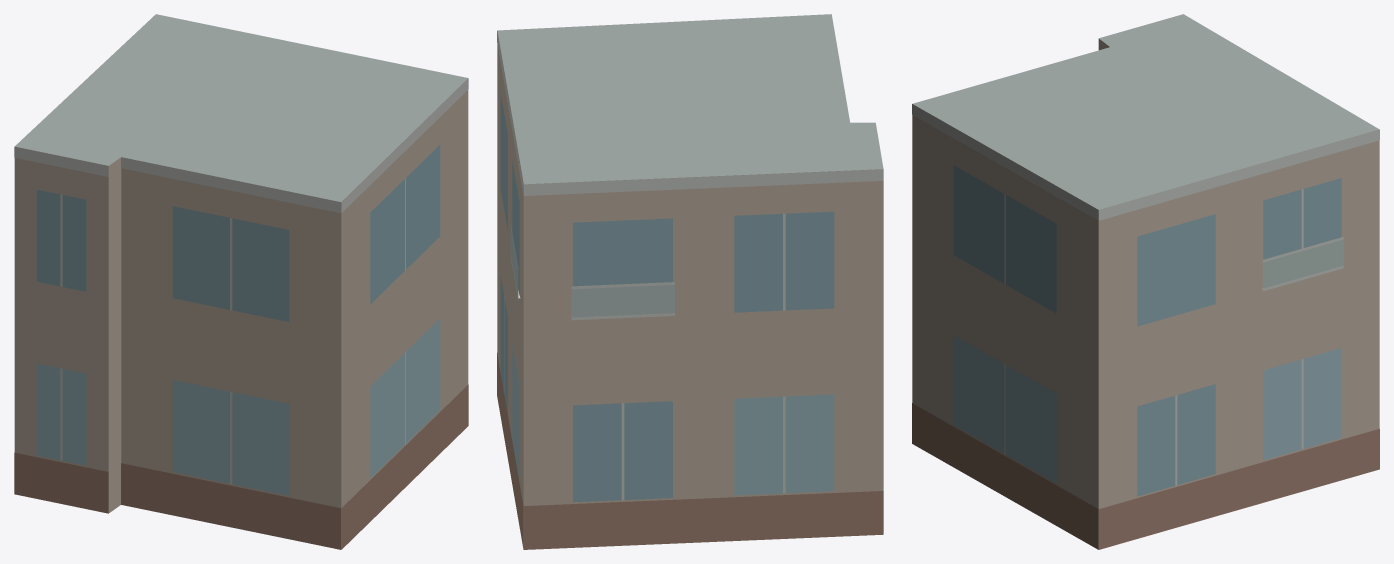
The model's file is survey-upis-32559815.glb.
The picture shows the model from 3 angles, left to right: view 1: azimuth 30°, elevation 25°; view 2: azimuth 150°, elevation 25°; view 3: azimuth 270°, elevation 25°; orthographic projection. The views are drawn at different scales.
Visible parts, largest first — view 1: survey-upis-32559815.tmp; view 2: survey-upis-32559815.tmp; view 3: survey-upis-32559815.tmp.
Part boxes in pixels (box(x1,y1,x2,y2)): survey-upis-32559815.tmp: box(14, 14, 468, 549); survey-upis-32559815.tmp: box(497, 14, 883, 549); survey-upis-32559815.tmp: box(912, 14, 1379, 549).
Size of the model in its own units: 9.4 by 7.6 by 9.48.
